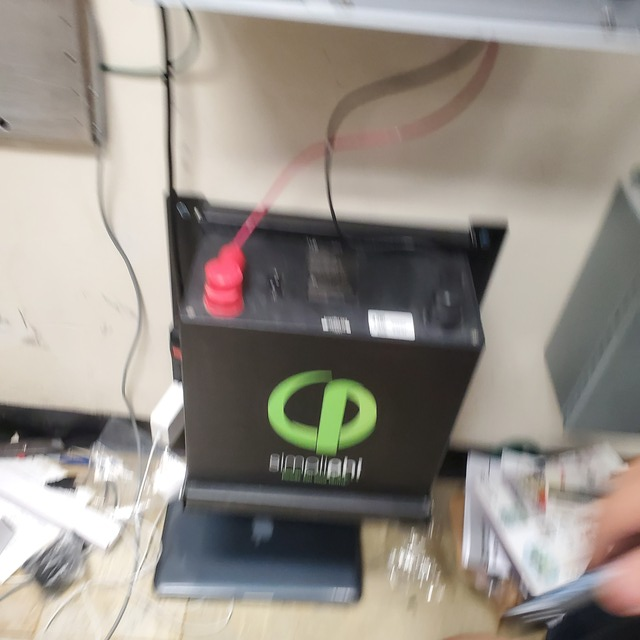battery: (178, 210, 493, 524)
